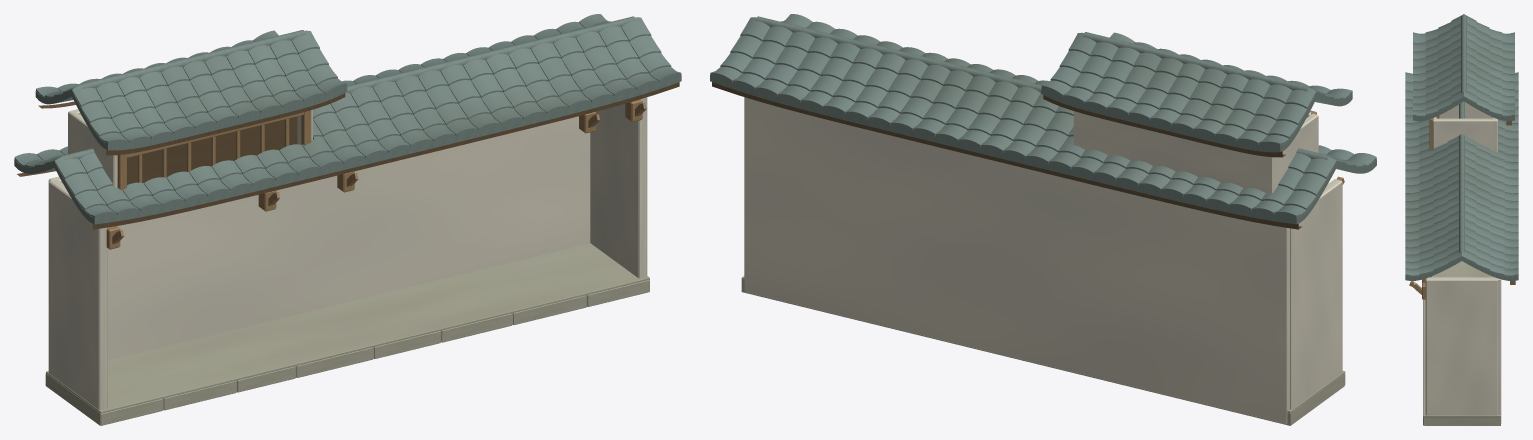
Rendered from town-product-shop.glb.
3 renders of one model, left to right at view 1: azimuth 30°, elevation 25°; view 2: azimuth 150°, elevation 25°; view 3: azimuth 270°, elevation 25°, orthographic. The views are drawn at different scales.
Visible parts, largest first — view 1: Wall, Roof, Foundation, Wood; view 2: Wall, Roof, Wood, Foundation; view 3: Roof, Wall, Foundation, Wood.
Part boxes in pixels (left/top/right/bottom): Wall: left=48, top=97, right=647, bottom=409; Roof: left=14, top=14, right=681, bottom=224; Foundation: left=45, top=243, right=649, bottom=425; Wood: left=17, top=82, right=679, bottom=249; Wall: left=744, top=97, right=1342, bottom=424; Roof: left=710, top=14, right=1376, bottom=224; Wood: left=712, top=82, right=1344, bottom=229; Foundation: left=741, top=276, right=1345, bottom=425; Roof: left=1405, top=14, right=1518, bottom=280; Wall: left=1425, top=102, right=1501, bottom=423; Foundation: left=1423, top=261, right=1500, bottom=425; Wood: left=1409, top=115, right=1515, bottom=299.
Size of the model in its own units: 7.19 by 3.73 by 1.71.
Materials: 4 (4 with a texture image).
